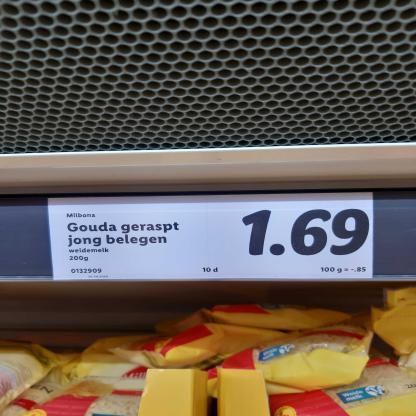prtg: (50, 194, 374, 282)
